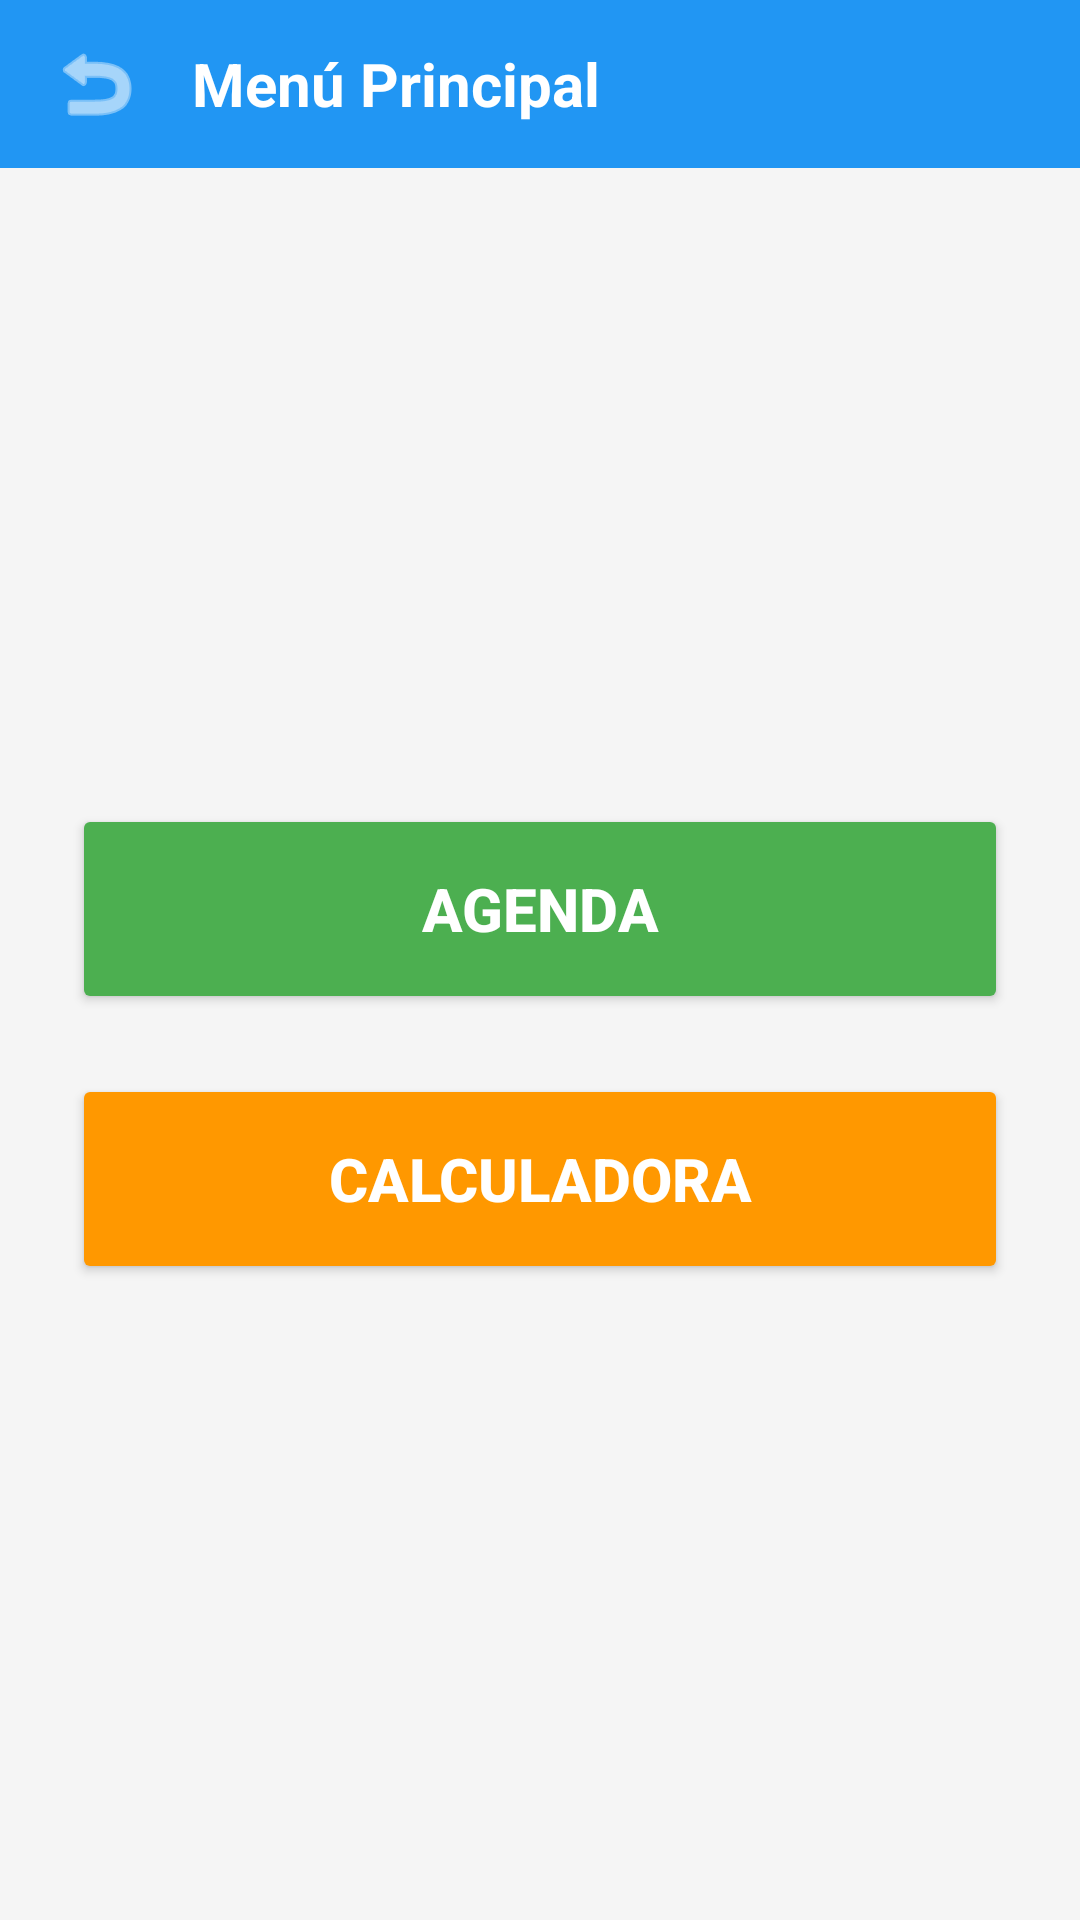

Icons on this 1080 × 1920 Android screen, each with the point to tap as point (x, y):
Volver: point (97, 84)
